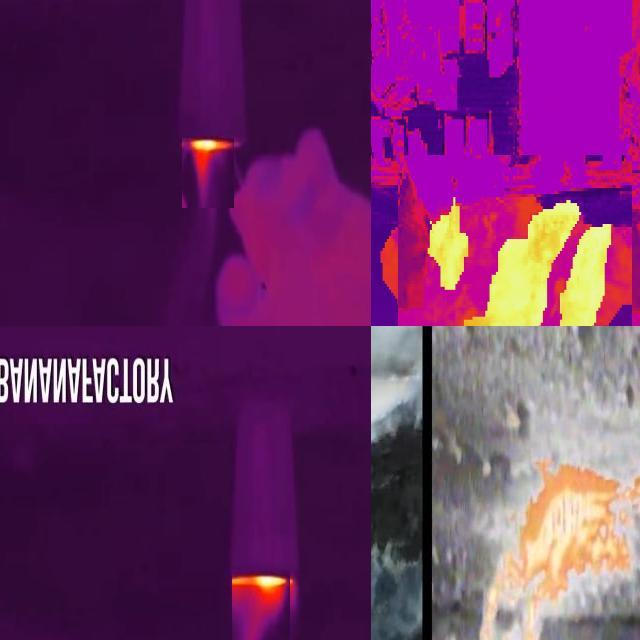fire: (399, 156, 633, 327), (458, 461, 632, 640), (233, 571, 291, 640), (183, 139, 235, 209)
